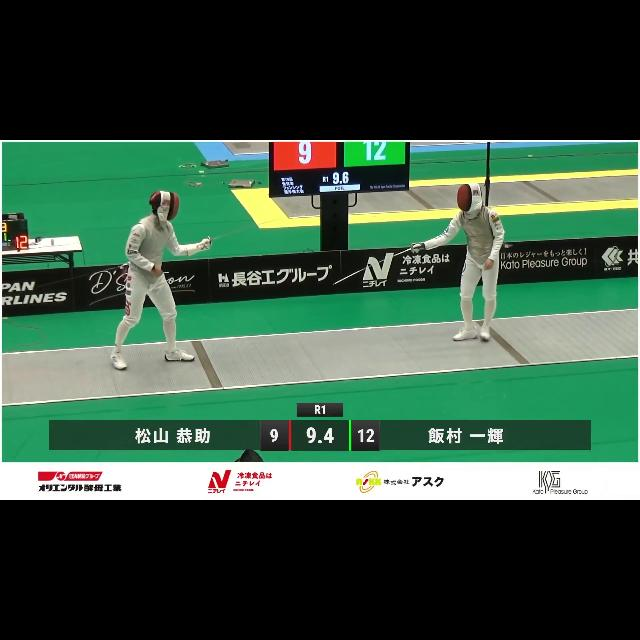blade: (330, 240, 420, 286), (200, 218, 272, 252)
